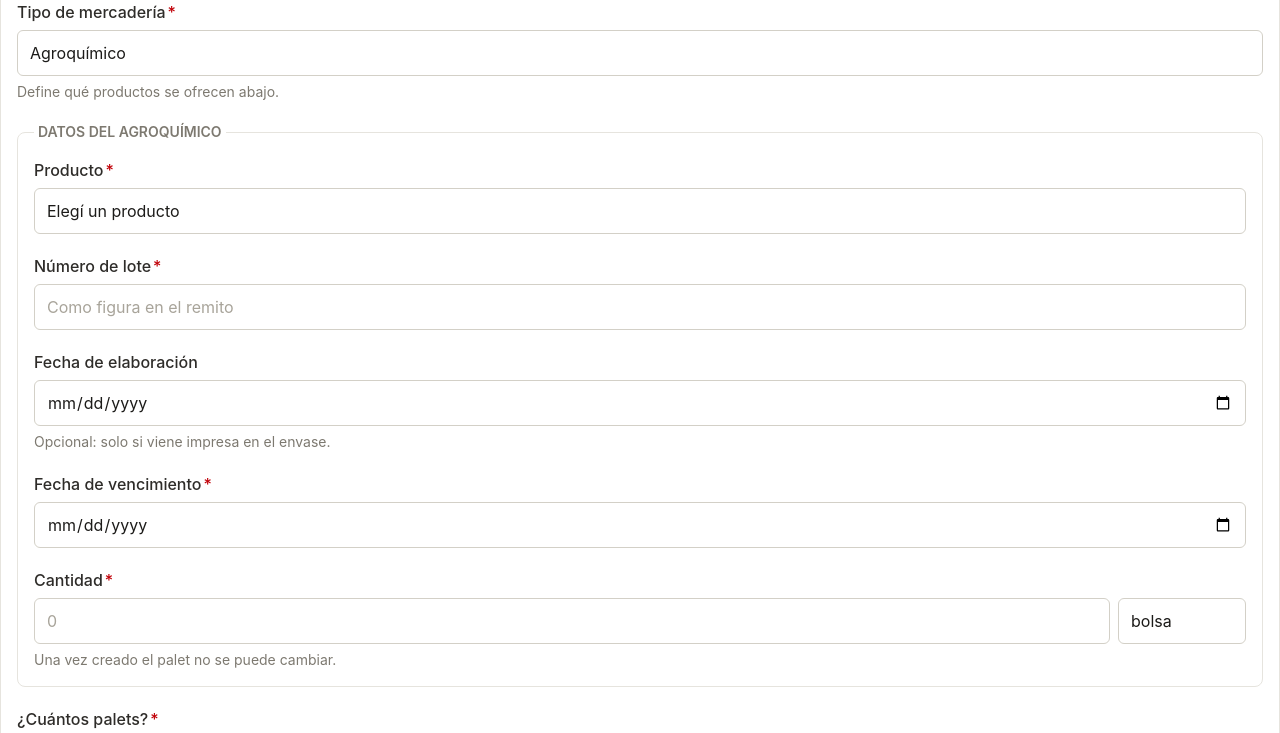
palet de semilla › no deja dar de alta sin híbrido
Select "Semilla" in the dropdown labelled "Tipo de mercadería*": (640, 53) [17,30,1263,76]
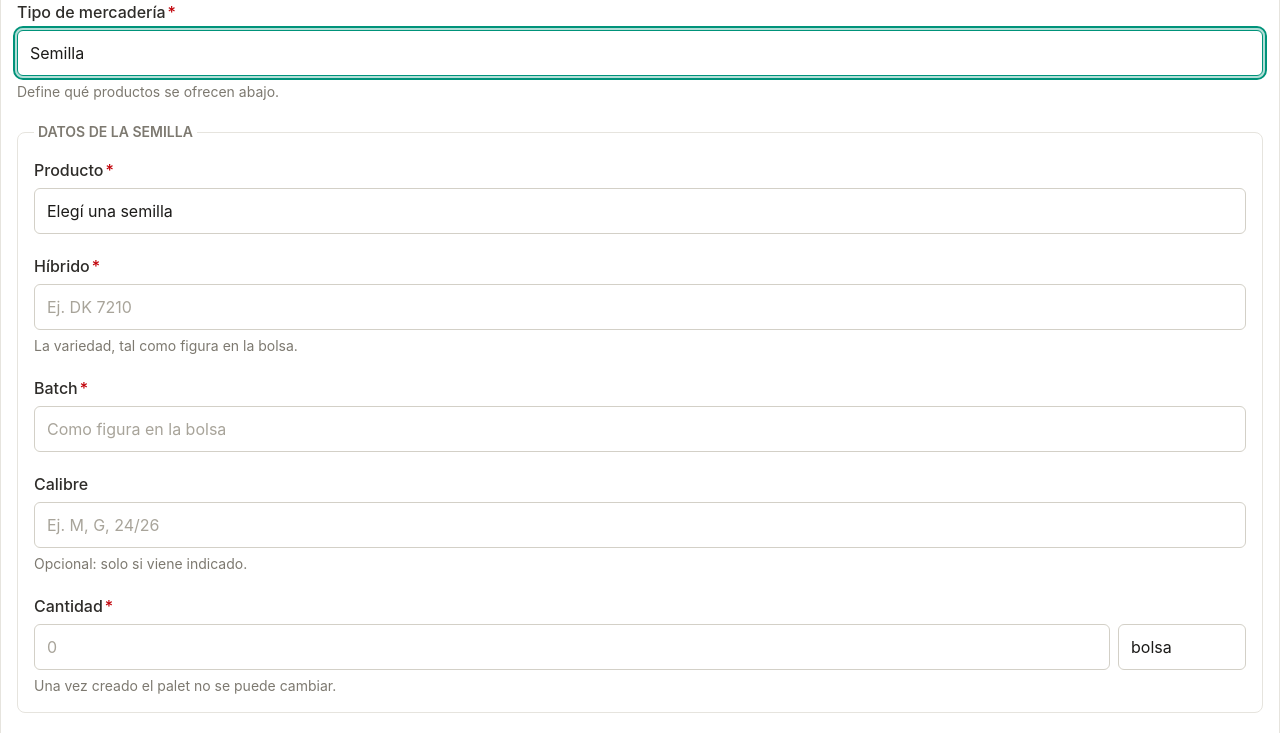
In the field labelled "Batch*": (640, 429) [34,406,1246,452], type "L-001"
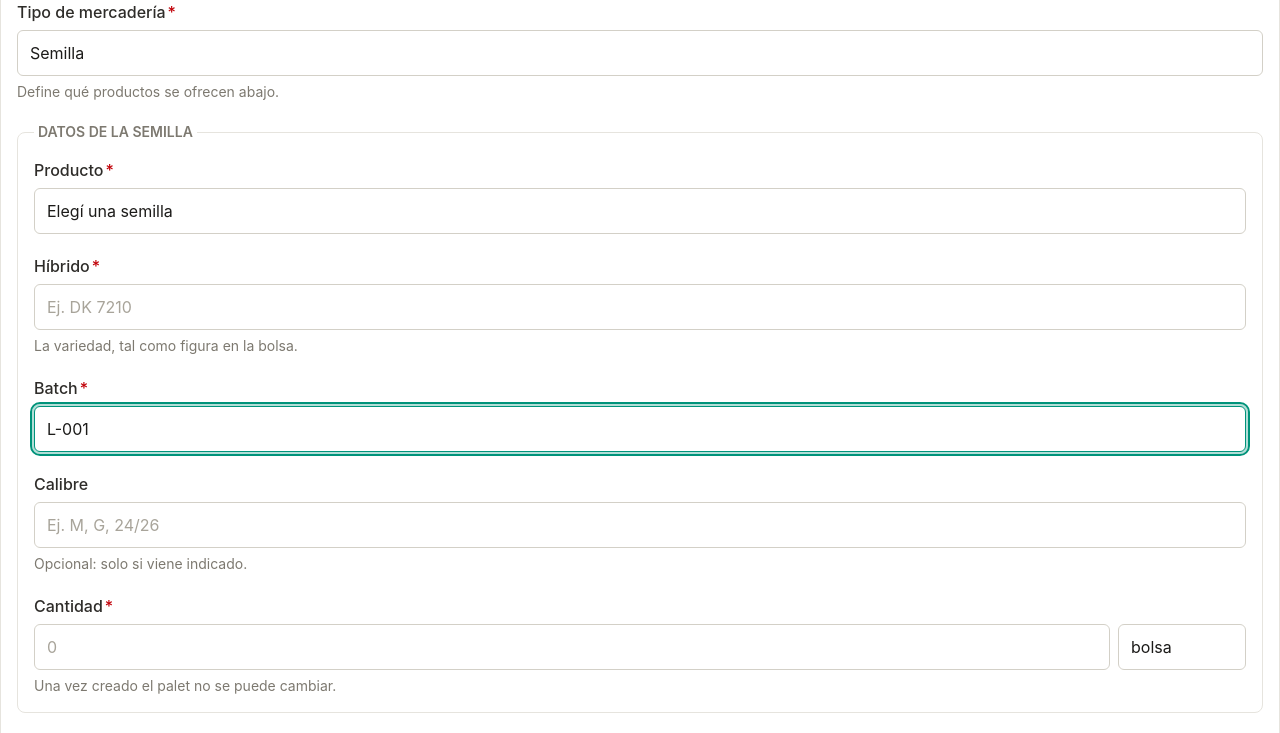
In the field labelled "Cantidad*": (572, 647) [34,624,1110,670], type "50"
(page scrolled)
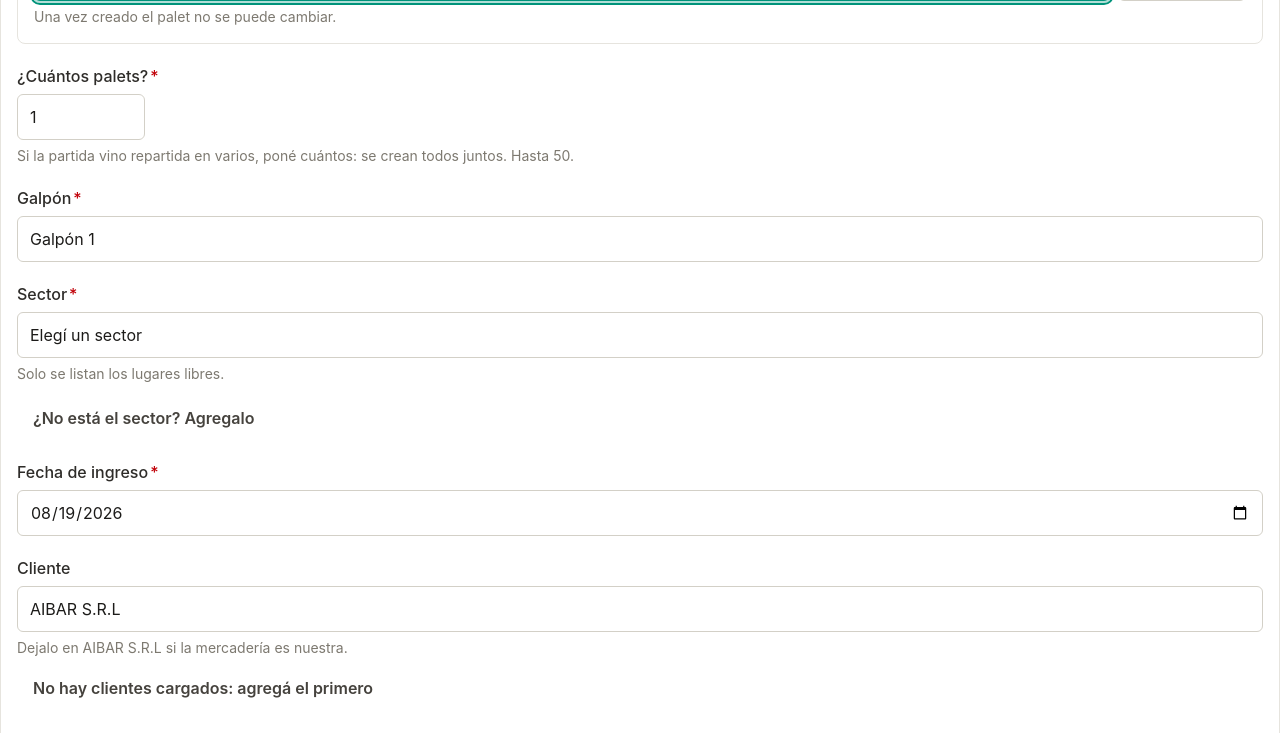
Select "A1" in the dropdown labelled "Sector*": (640, 335) [17,312,1263,358]
(page scrolled)
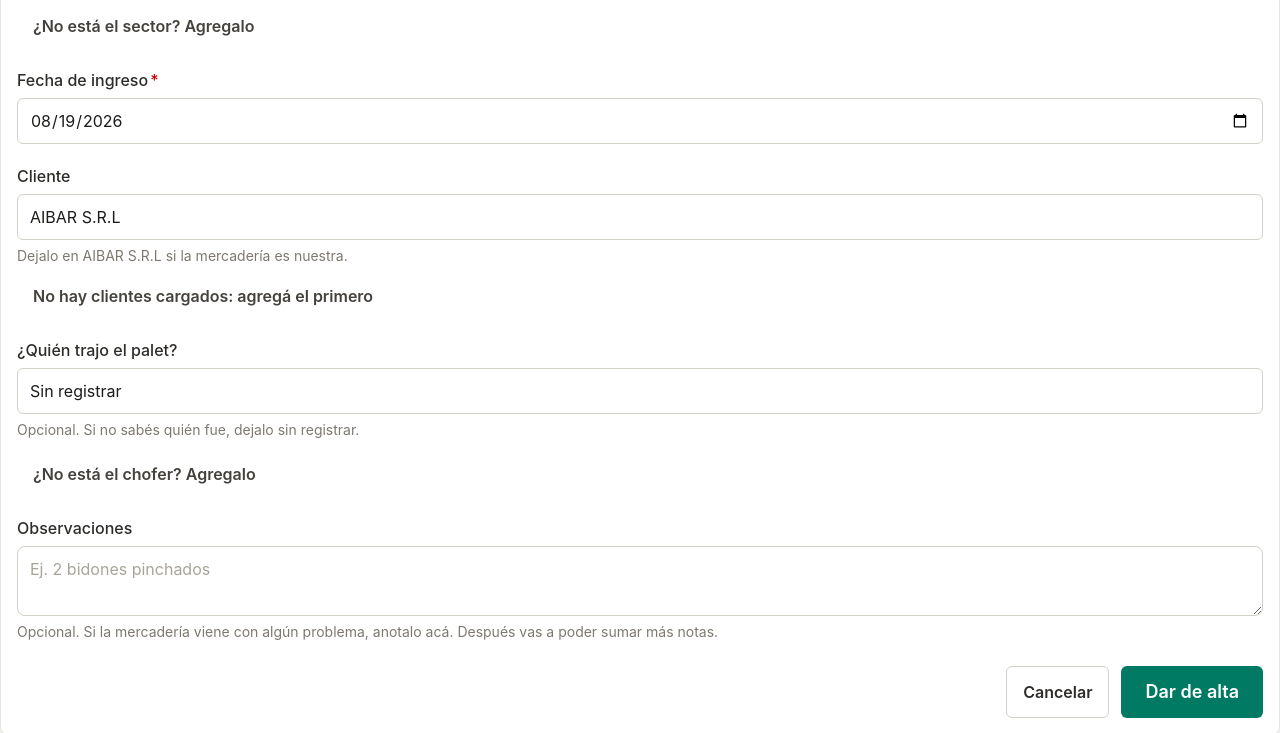
Click the button "Dar de alta": (1192, 692) [1122,666,1263,718]
(page scrolled)
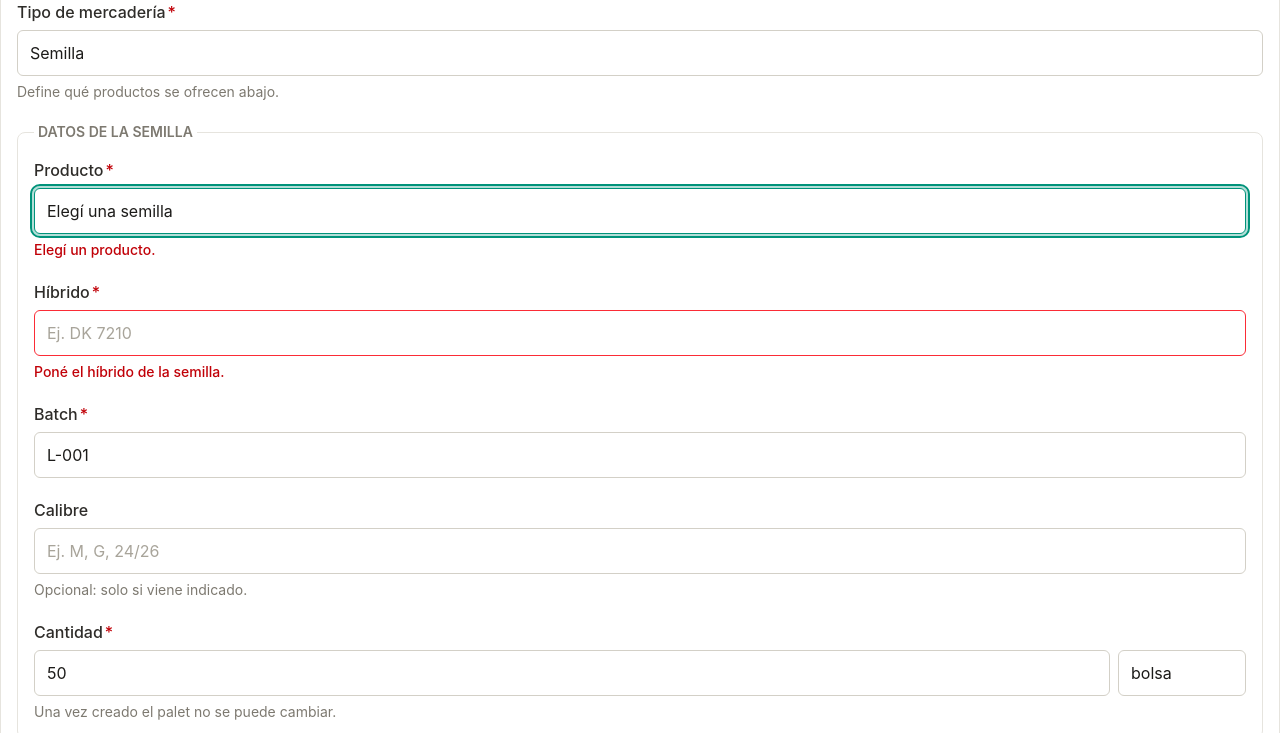
Expected: the text "Poné el híbrido de la semilla." is shown, [34,363,224,380]
